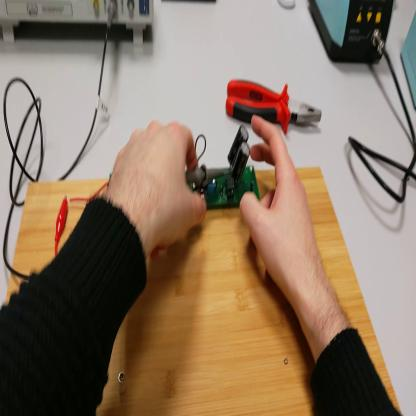hand: (241, 117, 318, 297), (108, 120, 208, 255)
high voltage board: (193, 123, 262, 211)
oscilloscope: (2, 2, 154, 49)
oscilloscope probe tip: (189, 161, 234, 185)
pliers: (223, 74, 322, 133)
welder base: (401, 5, 416, 111)
welder station: (309, 1, 395, 68)
working area: (7, 168, 401, 414)
